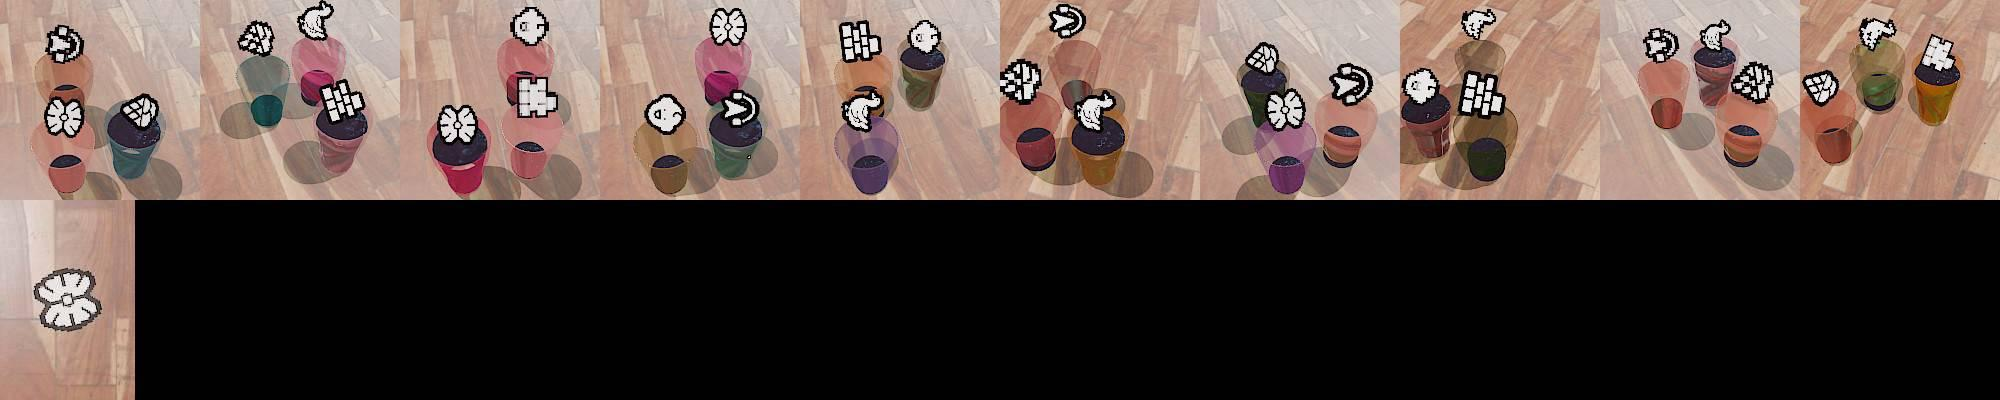icon: (32, 267, 102, 330), (1458, 68, 1509, 119), (319, 77, 367, 124), (840, 85, 886, 132), (1071, 87, 1118, 132), (1328, 61, 1373, 107), (838, 19, 883, 63), (1729, 61, 1775, 104), (999, 58, 1042, 103), (644, 92, 687, 135), (515, 74, 557, 118), (44, 94, 85, 139), (1264, 87, 1306, 130), (436, 103, 479, 145), (716, 88, 760, 128), (708, 6, 747, 47), (1919, 34, 1958, 75), (510, 5, 549, 46), (46, 24, 85, 64), (236, 19, 276, 58), (1402, 66, 1441, 105), (296, 1, 334, 41), (120, 93, 159, 130), (1801, 70, 1840, 107), (1857, 17, 1897, 53), (1641, 26, 1679, 63), (1048, 3, 1087, 39), (906, 18, 942, 55), (1460, 8, 1497, 41), (1244, 42, 1281, 75), (1699, 20, 1730, 52)
